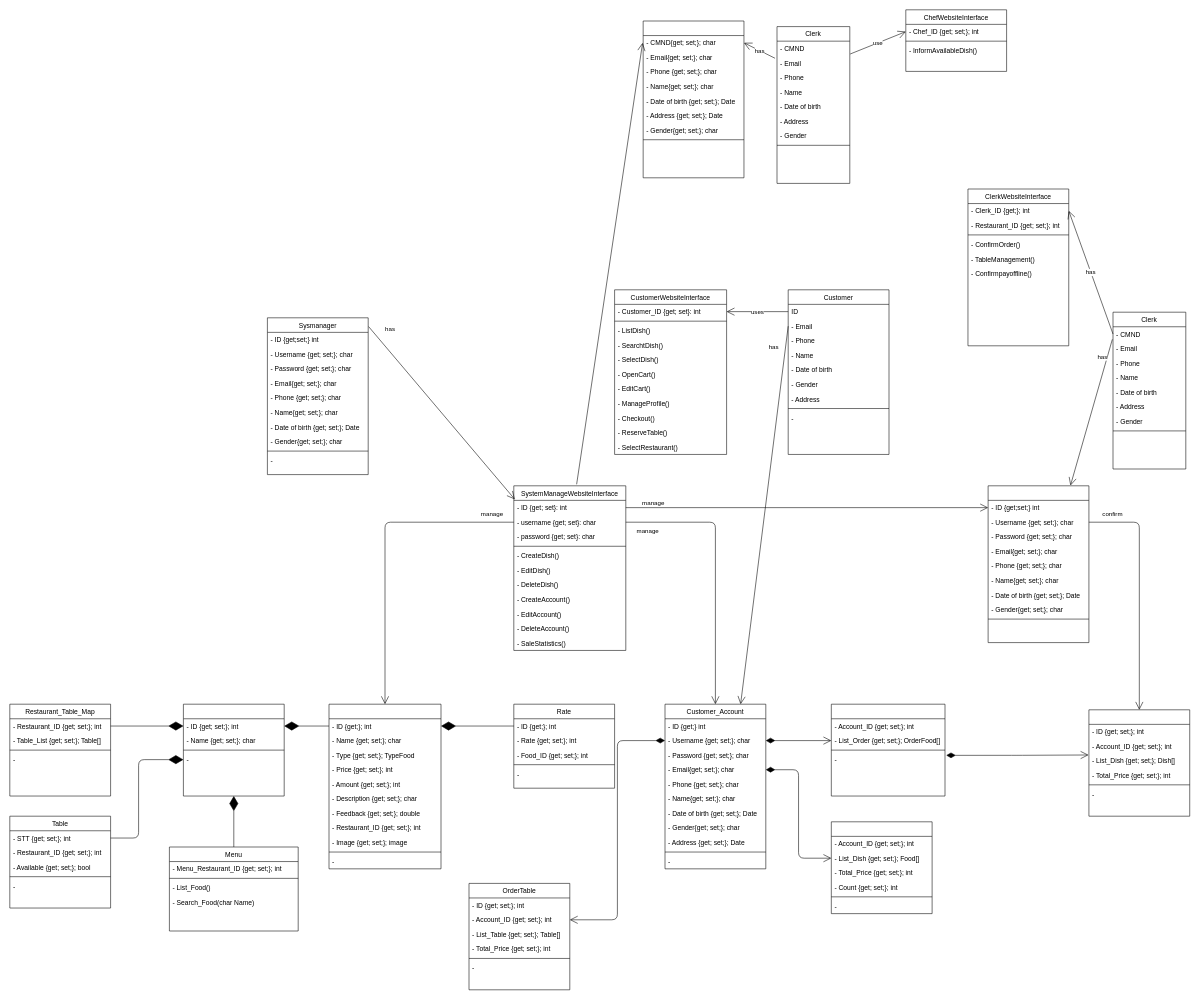
The diagram is 1200 pixels wide and 1000 high, and some of its shapes have lost their labels. Here are the shapes that lost their labels. From the top down, the box of each, then its label:
(643, 20, 744, 178): ChefAccount
(988, 485, 1089, 643): Clerk_Account
(183, 704, 284, 796): Restaurant
(831, 704, 945, 796): Dish Order History
(1088, 709, 1190, 816): OrderFood
(328, 704, 441, 869): Dish
(831, 821, 932, 914): Cart
